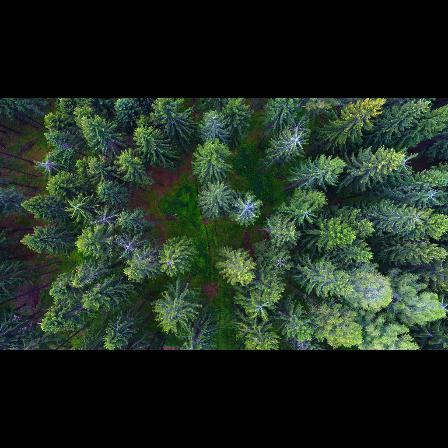Sick: (280, 119, 312, 152), (231, 192, 264, 222), (88, 203, 120, 231), (32, 152, 64, 178), (113, 234, 145, 258)
